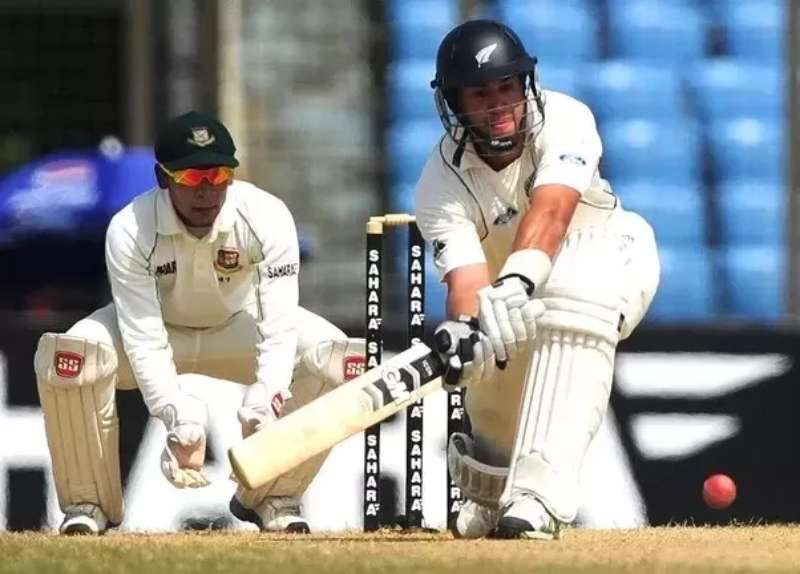Sweepshot: (182, 21, 751, 551)
